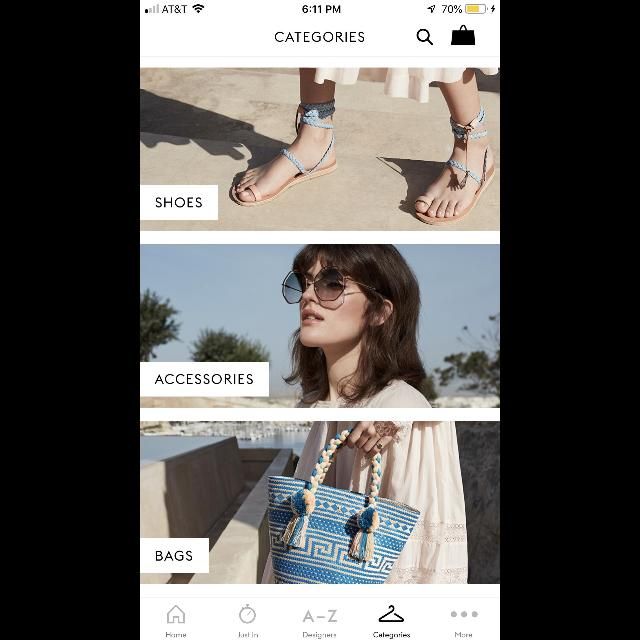icon: (450, 24, 476, 46), (302, 610, 338, 622), (378, 606, 404, 622), (167, 604, 185, 624), (416, 28, 434, 46), (240, 604, 256, 624), (450, 611, 478, 617)
image: (140, 68, 500, 232), (140, 245, 500, 408), (140, 422, 500, 584)
text: (155, 374, 253, 384), (276, 32, 364, 42), (156, 198, 202, 208), (156, 550, 192, 562), (374, 631, 410, 639), (304, 632, 336, 638), (167, 632, 187, 638), (238, 632, 258, 638), (456, 632, 472, 638)
uppertaskbar: (140, 1, 500, 15)
